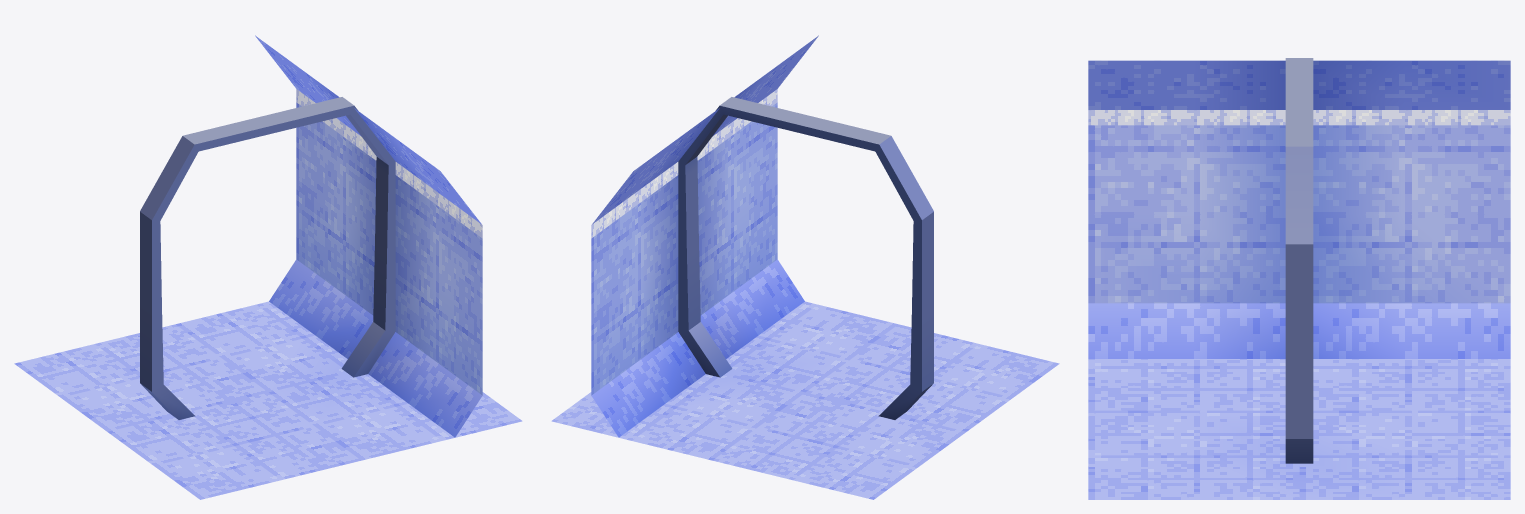
The model's file is stn.corridor.glb.
3 renders of one model, left to right at view 1: azimuth 30°, elevation 25°; view 2: azimuth 150°, elevation 25°; view 3: azimuth 270°, elevation 25°, orthographic. The views are drawn at different scales.
Parts seen in each view (by area): view 1: kit_shell_floor, kit_shell_walls, kit_rib; view 2: kit_shell_floor, kit_shell_walls, kit_rib; view 3: kit_shell_walls, kit_shell_floor, kit_rib.
Boxes of the visible parts, bbox=[...] form: kit_shell_floor: bbox=[14, 301, 522, 499]; kit_shell_walls: bbox=[255, 35, 482, 437]; kit_rib: bbox=[140, 97, 395, 419]; kit_shell_floor: bbox=[551, 301, 1059, 499]; kit_shell_walls: bbox=[591, 35, 818, 437]; kit_rib: bbox=[678, 97, 933, 419]; kit_shell_walls: bbox=[1088, 60, 1510, 358]; kit_shell_floor: bbox=[1088, 359, 1510, 499]; kit_rib: bbox=[1285, 58, 1313, 463].
Size of the model in its own units: 4 by 3.22 by 4.
6 materials, 5 textured.
